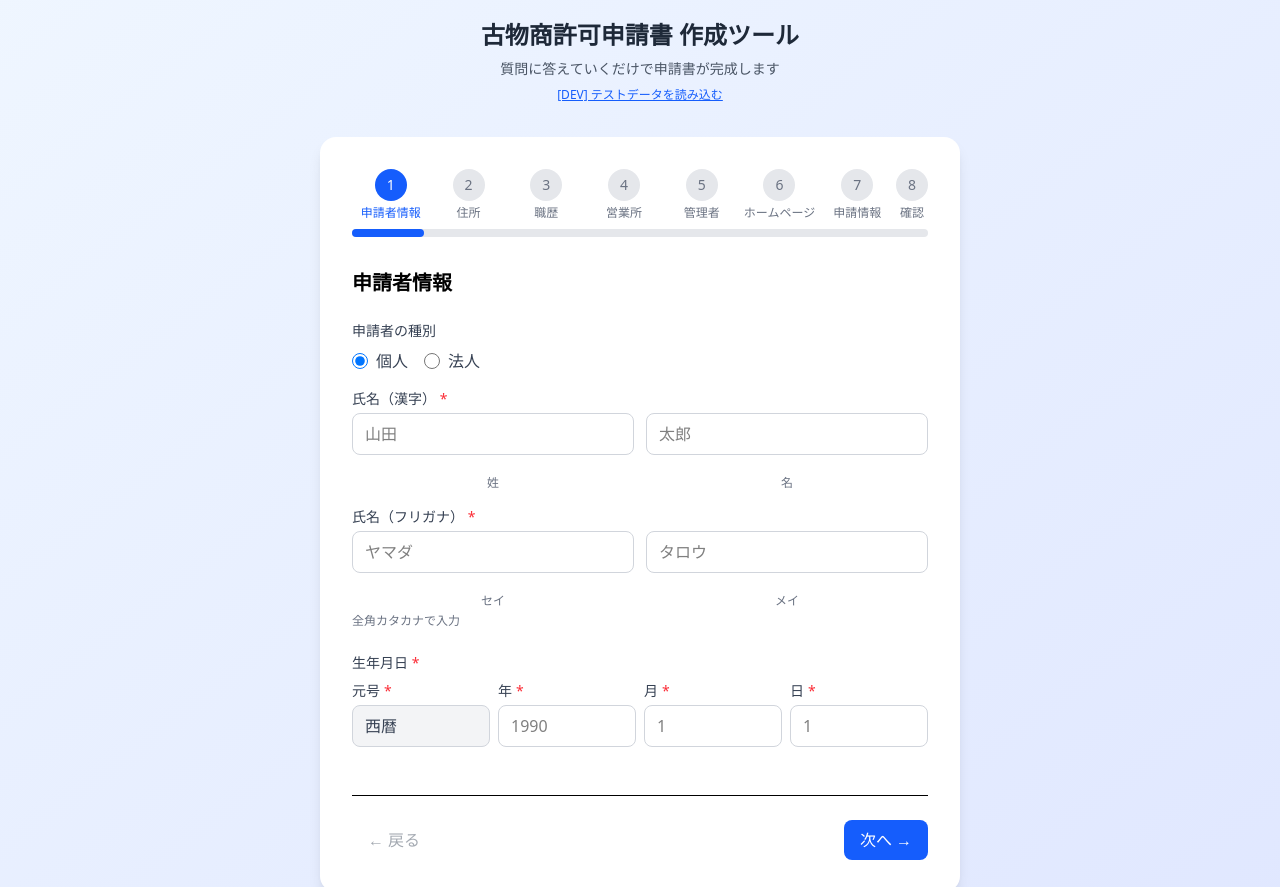
Test: App › test_back_button_returns_step: "戻る" ボタンで前のステップに戻る
// 「次へ」ボタンをクリックして次のステップに進む
Click the button "次へ →": click(886, 840) [844,820,928,860]
(page scrolled)
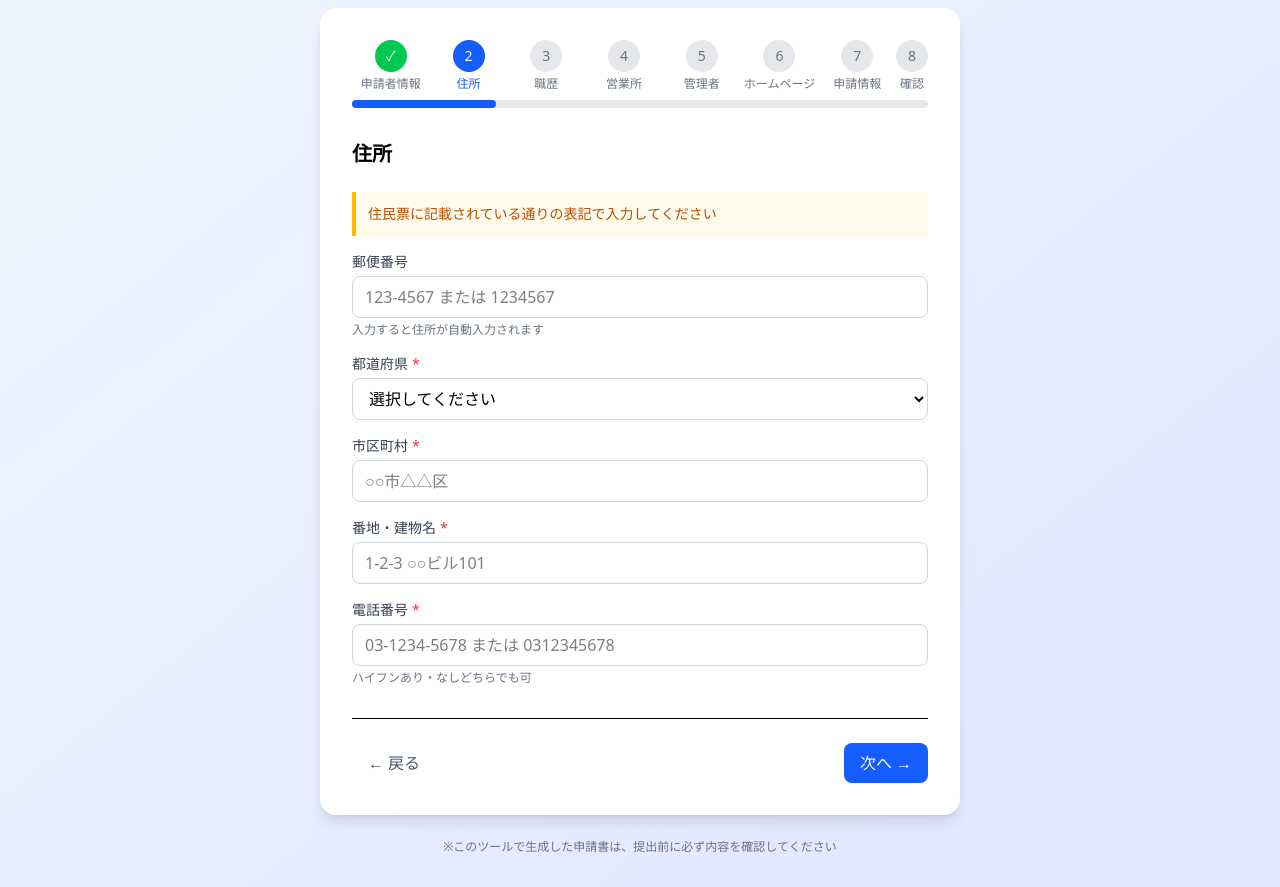
Result: the heading "住所" is shown at [352,140,392,167]
// 「戻る」ボタンをクリック
Click the button "← 戻る": click(394, 763) [352,743,436,783]
(page scrolled)
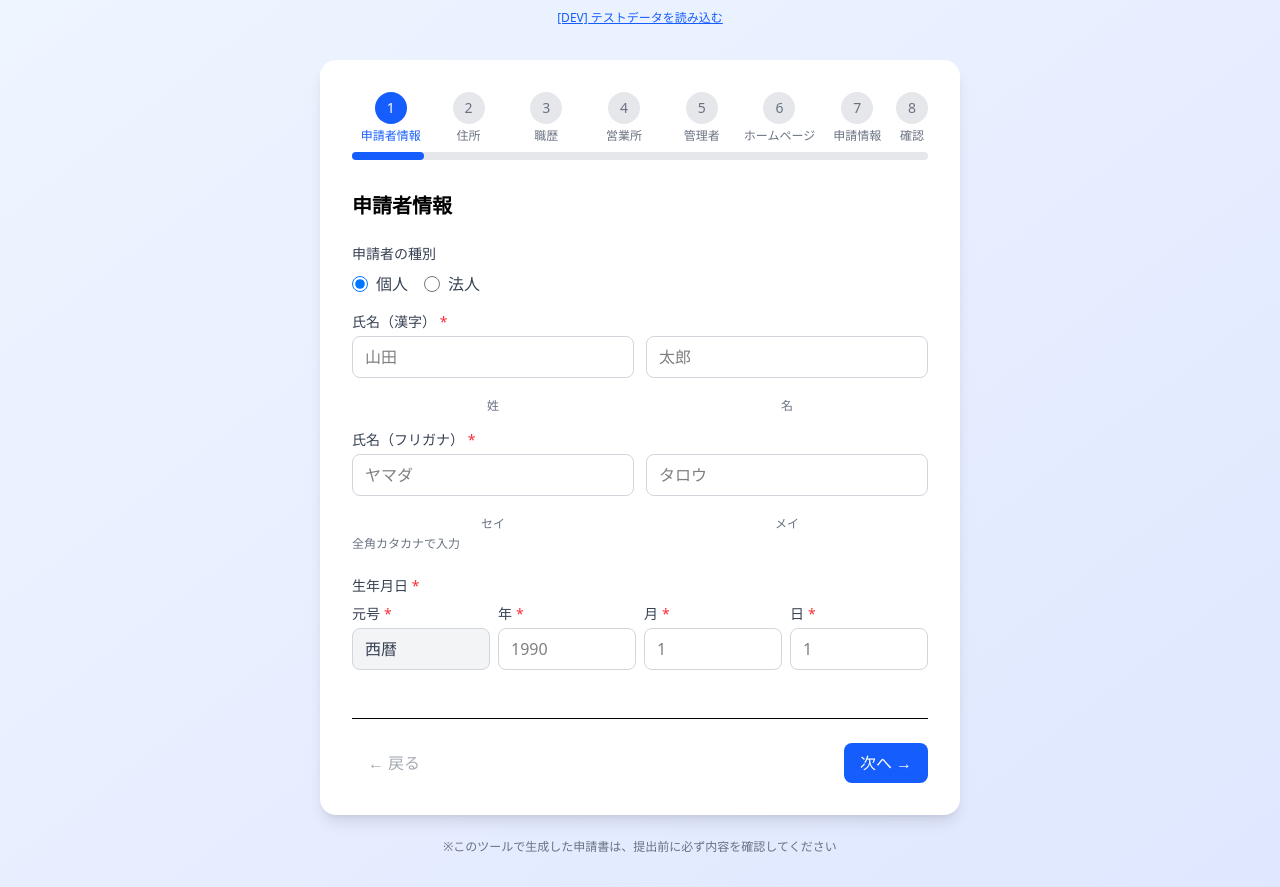
Result: the heading "申請者情報" is shown at [352,192,452,219]
